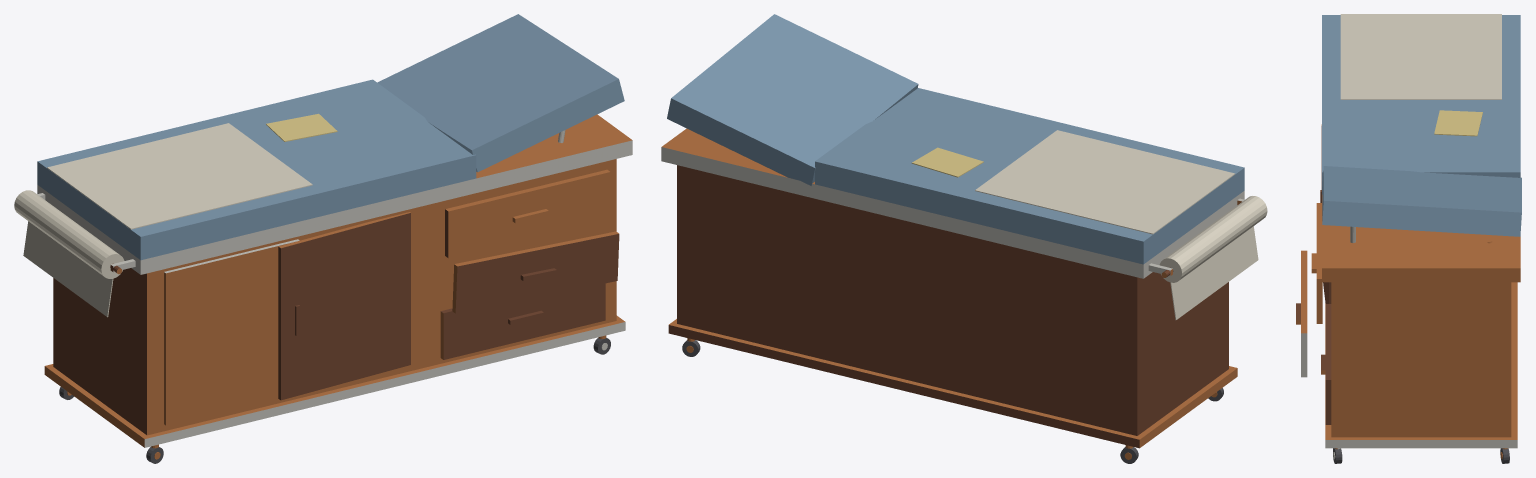
File: check_in_hospitalv2.fbx
3 renders of one model, left to right at view 1: azimuth 30°, elevation 25°; view 2: azimuth 150°, elevation 25°; view 3: azimuth 270°, elevation 25°, orthographic. The views are drawn at different scales.
Parts seen in each view (by area): view 1: 02_ExamTable_Damaged_Mesh; view 2: 02_ExamTable_Damaged_Mesh; view 3: 02_ExamTable_Damaged_Mesh.
Boxes of the visible parts, box(x1,y1,x2,y2) form: 02_ExamTable_Damaged_Mesh: box(14, 14, 632, 463); 02_ExamTable_Damaged_Mesh: box(661, 14, 1267, 463); 02_ExamTable_Damaged_Mesh: box(1296, 14, 1521, 463).
Bounding box in the file's own units: 187 × 94.83 × 72.83.
